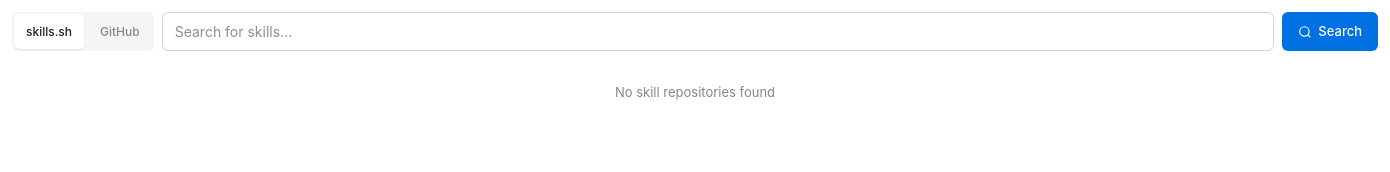
Test: MarketplaceSkills › search flow › shows error on search failure
In the field with placeholder "Search for skills...": (718, 32) [162,12,1274,51], type "test"
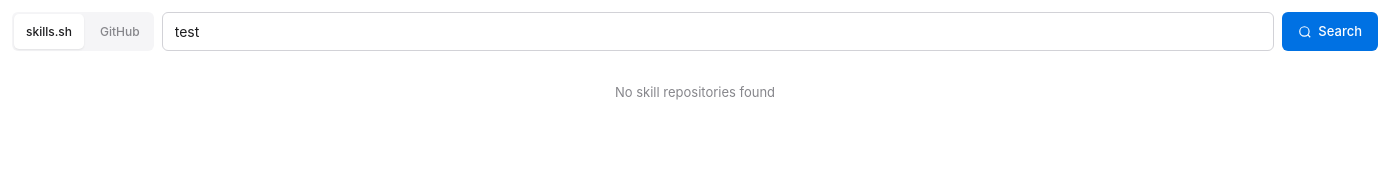
Click the button with class "search-btn": (1330, 32) [1282,12,1378,51]
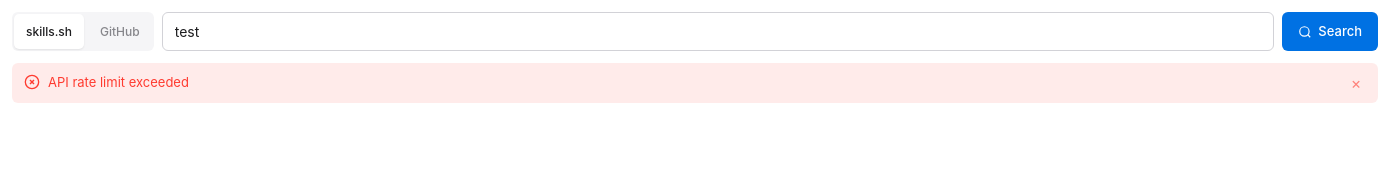
Expected: the element with class "result-error" is shown, [12,63,1378,103]
Expected: the text "rate limit" is shown, [48,74,189,90]
